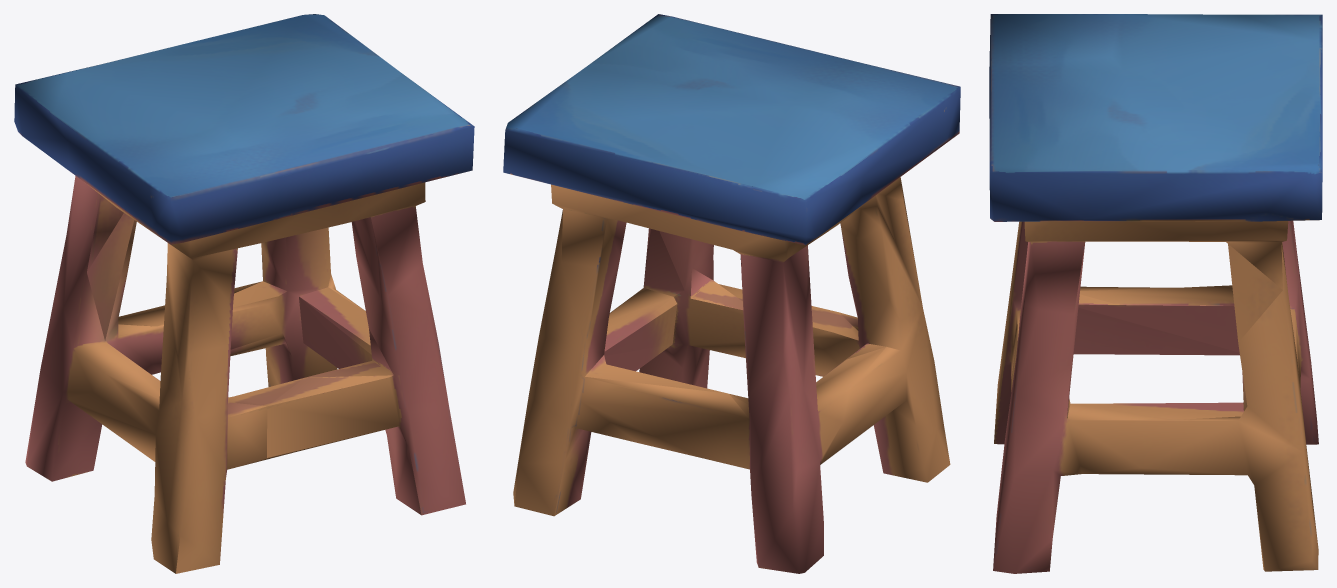
Rendered from milking-stool-table.glb.
3 renders of one model, left to right at view 1: azimuth 30°, elevation 25°; view 2: azimuth 150°, elevation 25°; view 3: azimuth 270°, elevation 25°, orthographic. The views are drawn at different scales.
Visible parts, largest first — view 1: geometry_0.001; view 2: geometry_0.001; view 3: geometry_0.001.
Boxes of the visible parts, x1=… form: geometry_0.001: x1=14, y1=14, x2=474, y2=573; geometry_0.001: x1=503, y1=14, x2=960, y2=573; geometry_0.001: x1=989, y1=14, x2=1322, y2=573.
Bounding box in the file's own units: 0.8362 × 0.9968 × 0.7406.
1 material, 1 textured.
